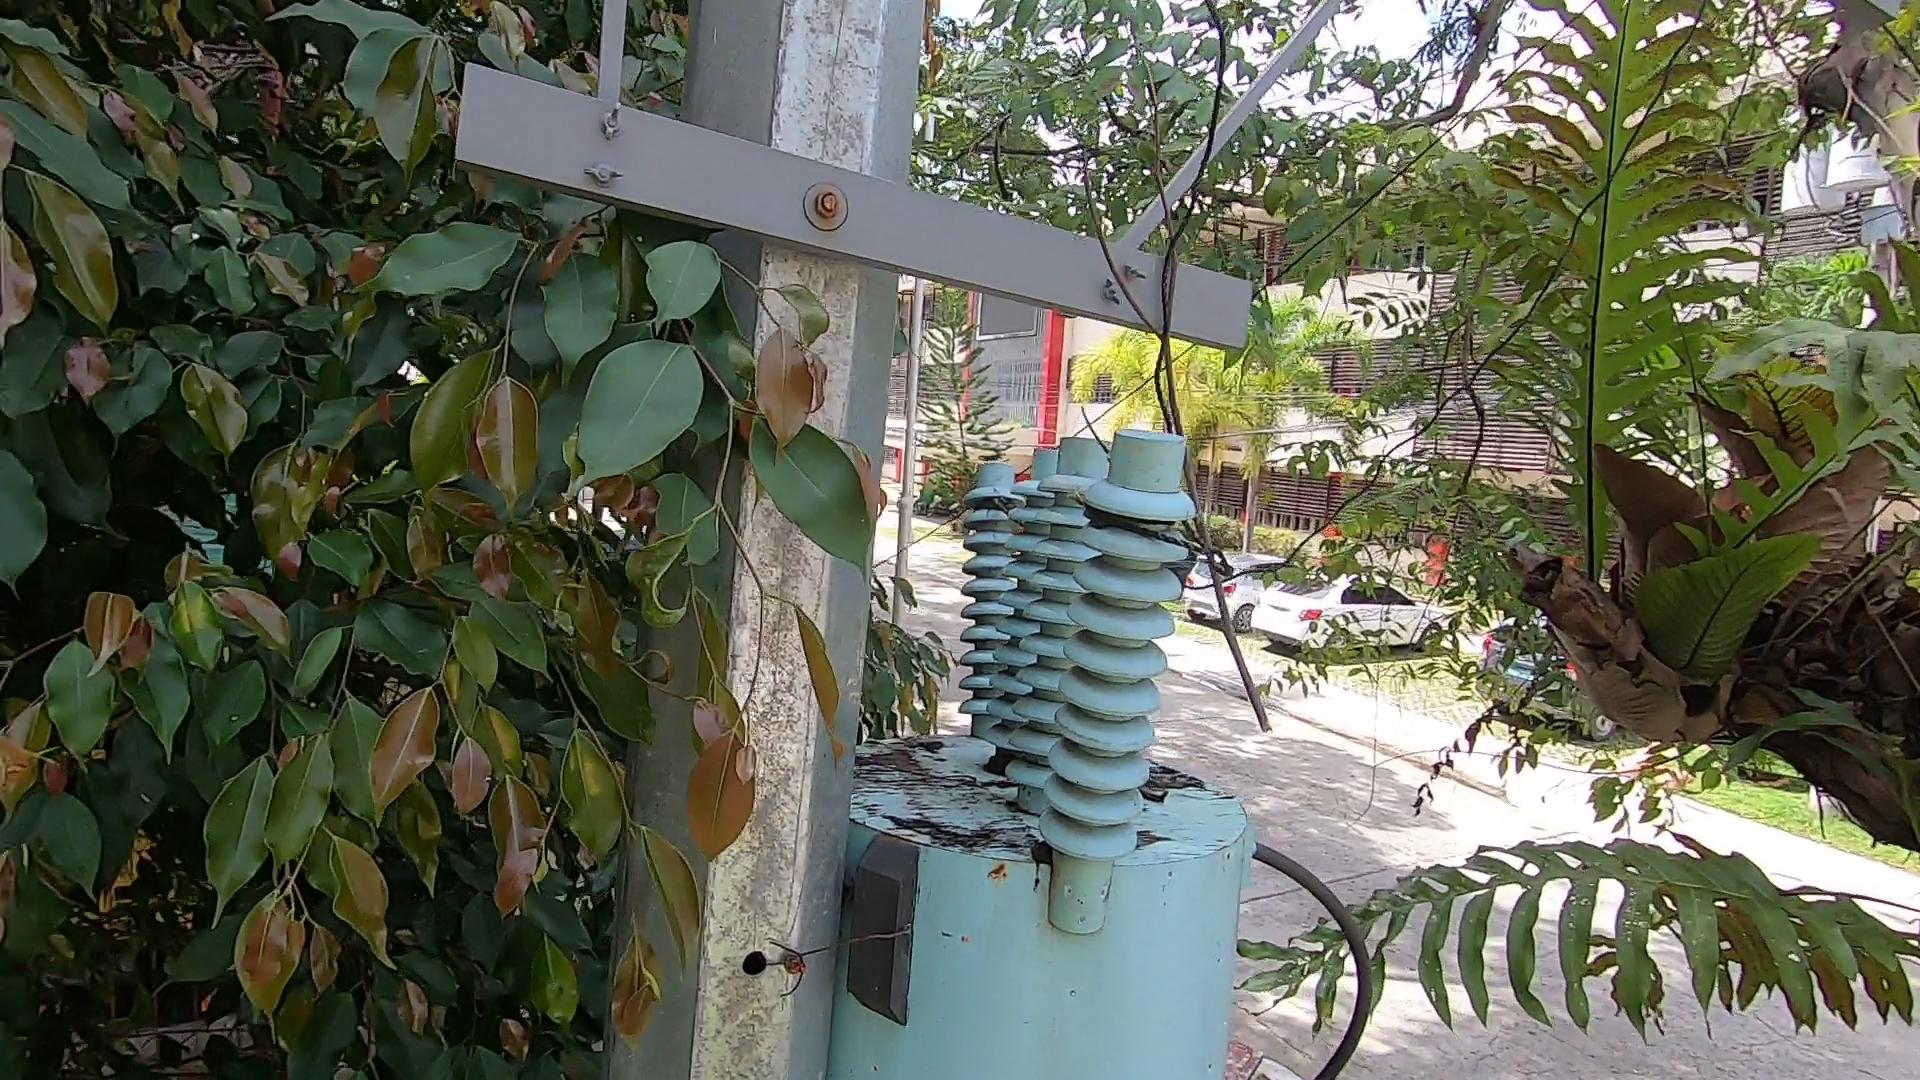leaf: (1145, 769, 1178, 812)
tree branch: (1017, 3, 1295, 737)
